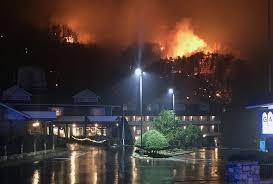fire: (159, 26, 217, 58), (58, 17, 93, 43)
